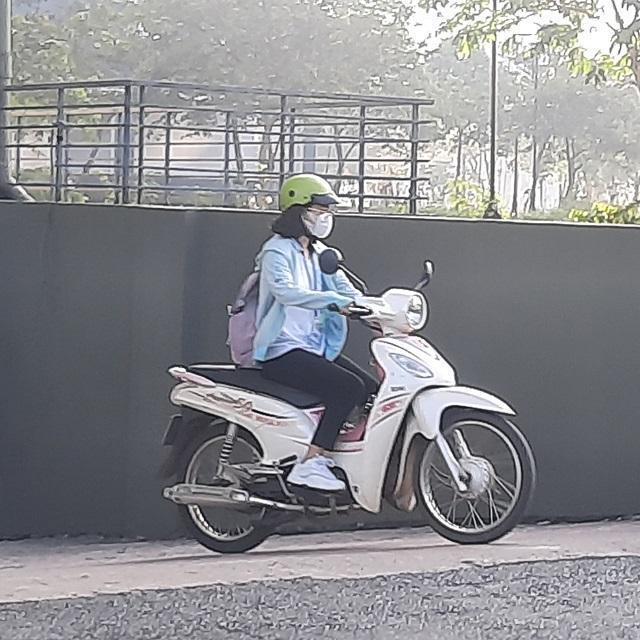Helmet: (276, 170, 344, 240)
